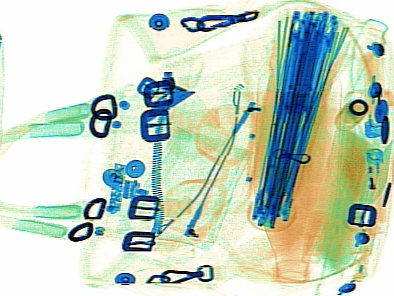lighter: (358, 49, 387, 138), (363, 146, 383, 224)
